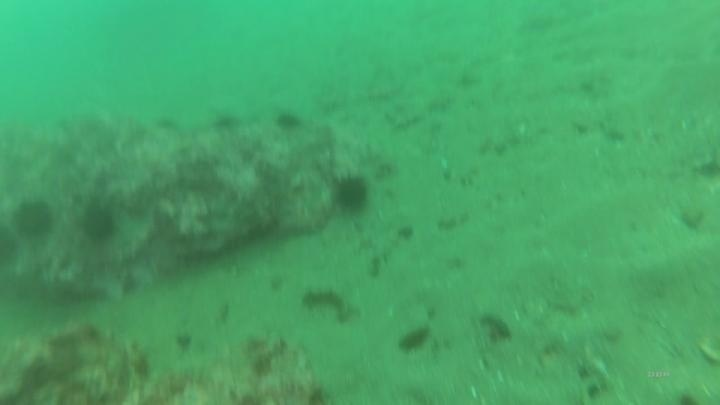echinus: (10, 197, 57, 242), (78, 200, 120, 247), (330, 172, 373, 217), (273, 108, 304, 135), (207, 109, 238, 136), (148, 108, 179, 135), (146, 106, 177, 133)
